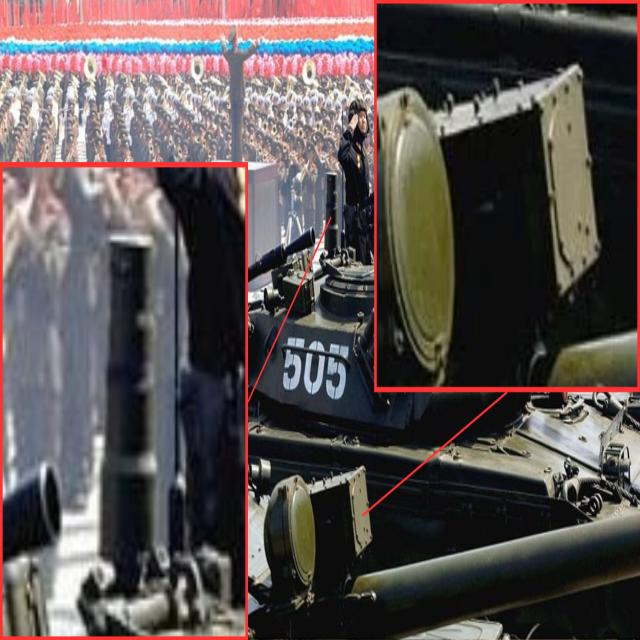north tank: (241, 114, 640, 640)
